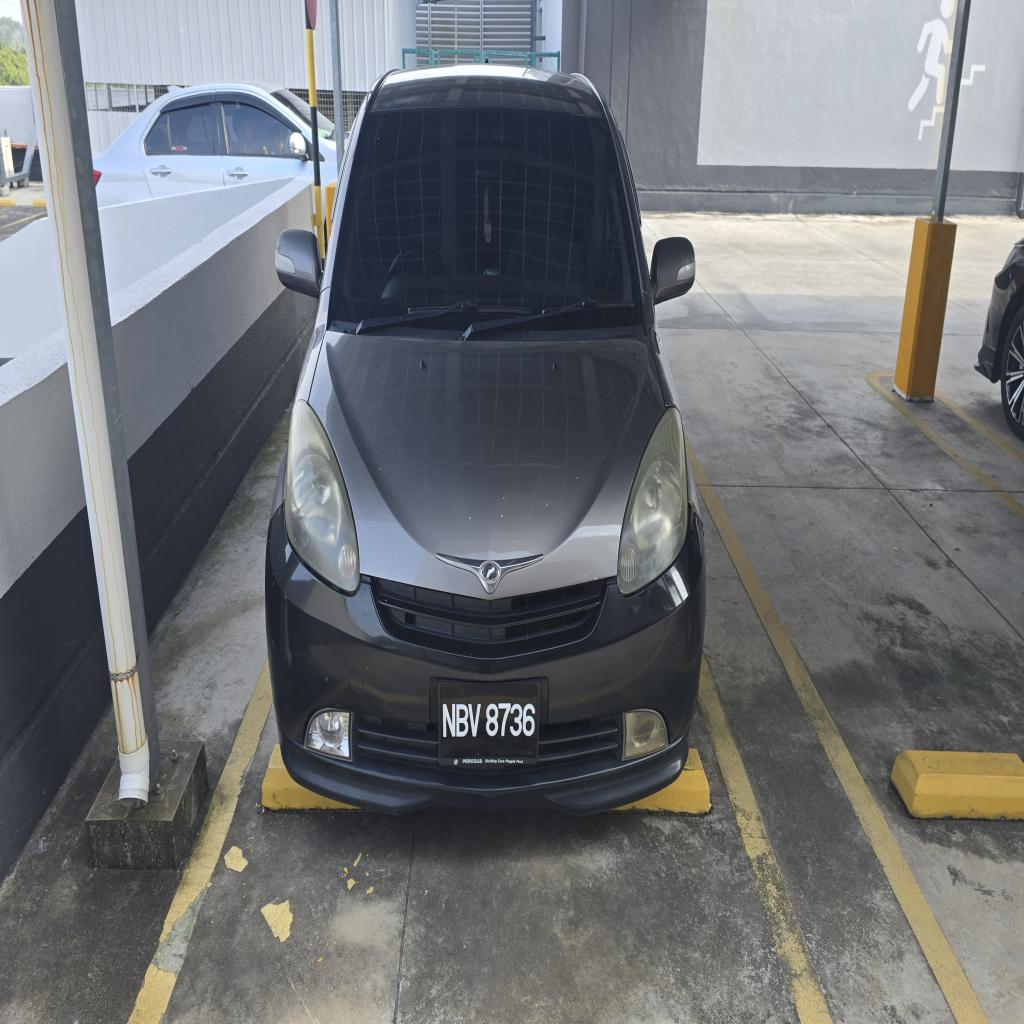car: (265, 66, 705, 813)
car plate: (439, 681, 539, 767)
